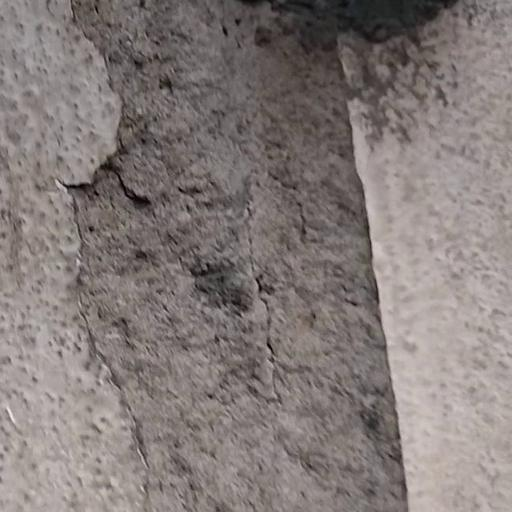spalling: (60, 0, 450, 512)
